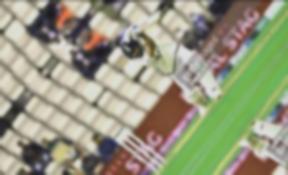batsman: (106, 0, 234, 121)
